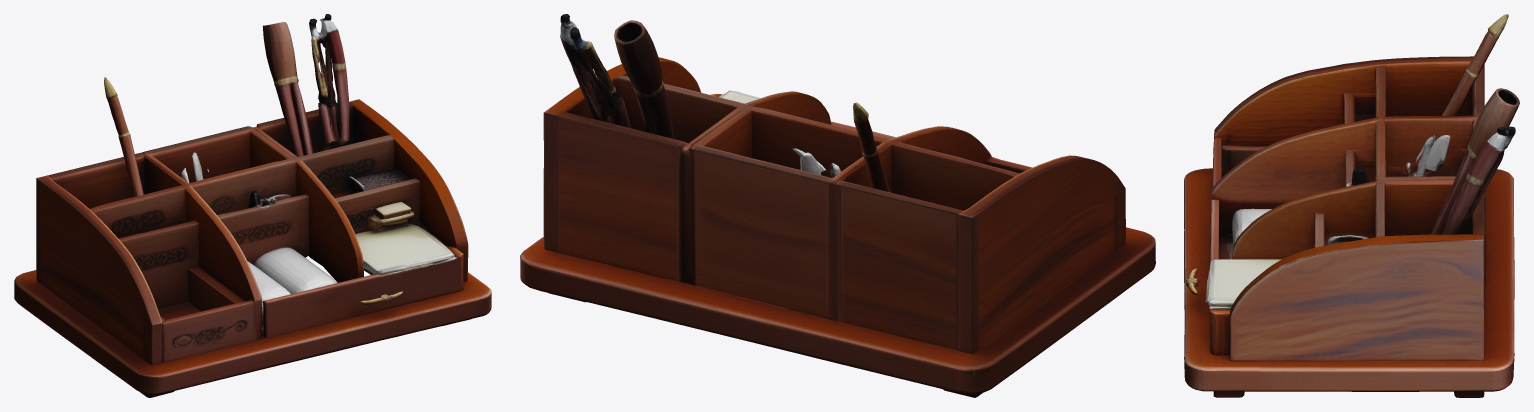
The model's file is wooden-desk-organizer-3d.jpeg.glb.
3 renders of one model, left to right at view 1: azimuth 30°, elevation 25°; view 2: azimuth 150°, elevation 25°; view 3: azimuth 270°, elevation 25°, orthographic. The views are drawn at different scales.
Parts seen in each view (by area): view 1: world; view 2: world; view 3: world.
Boxes of the visible parts, <box> form: world: <box>14,14,491,397</box>; world: <box>520,14,1155,397</box>; world: <box>1184,14,1519,397</box>.
Size of the model in its own units: 0.9999 by 0.6139 by 0.7033.
1 material, 1 textured.
